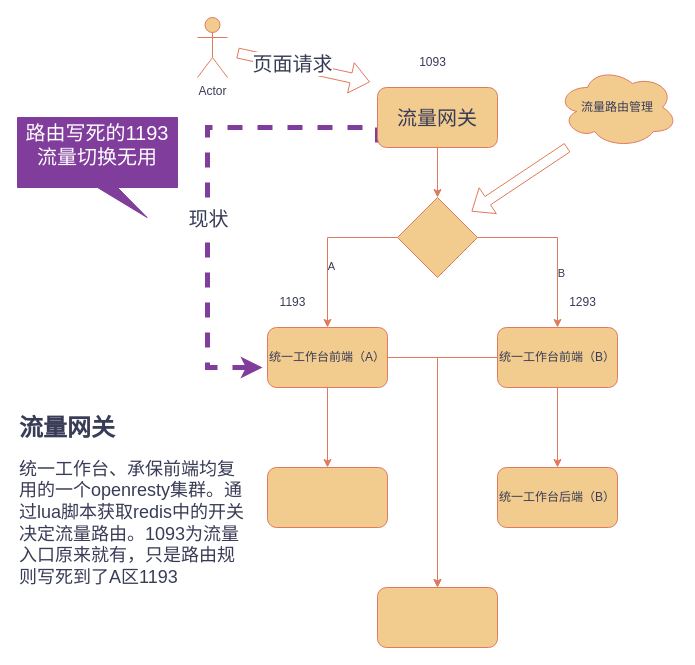
The diagram is 695 pixels wide and 665 high, and some of its shapes have lost their labels. Here are the shapes that lost their labels. From the top down, the centre of each, then its label:
point (437, 237): 检查开关
point (327, 497): 统一工作台后端（A）
point (437, 617): 承保前端流量网关
